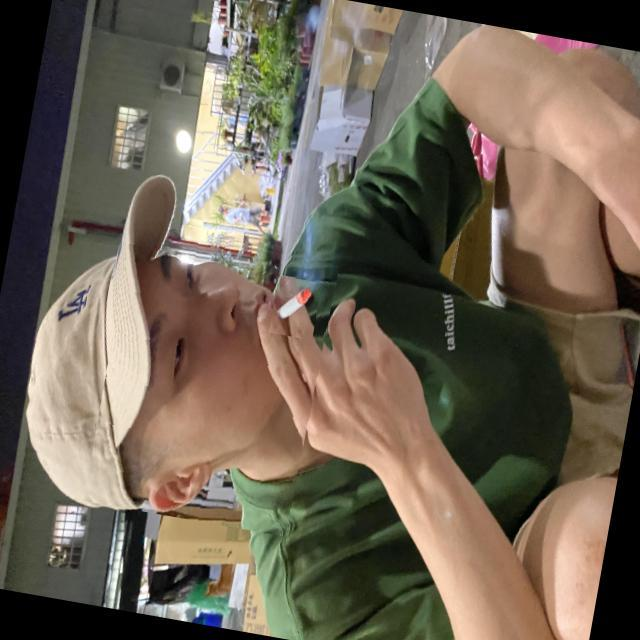cigarette: (268, 274, 322, 340)
